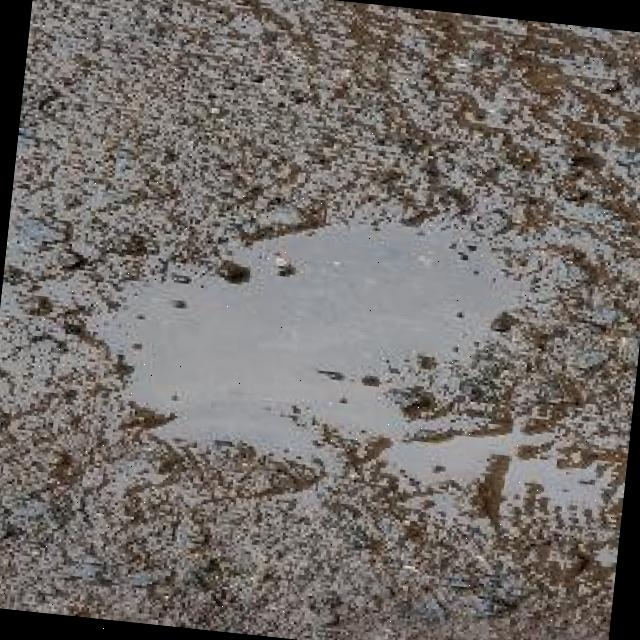stagnation: (73, 200, 640, 567)
